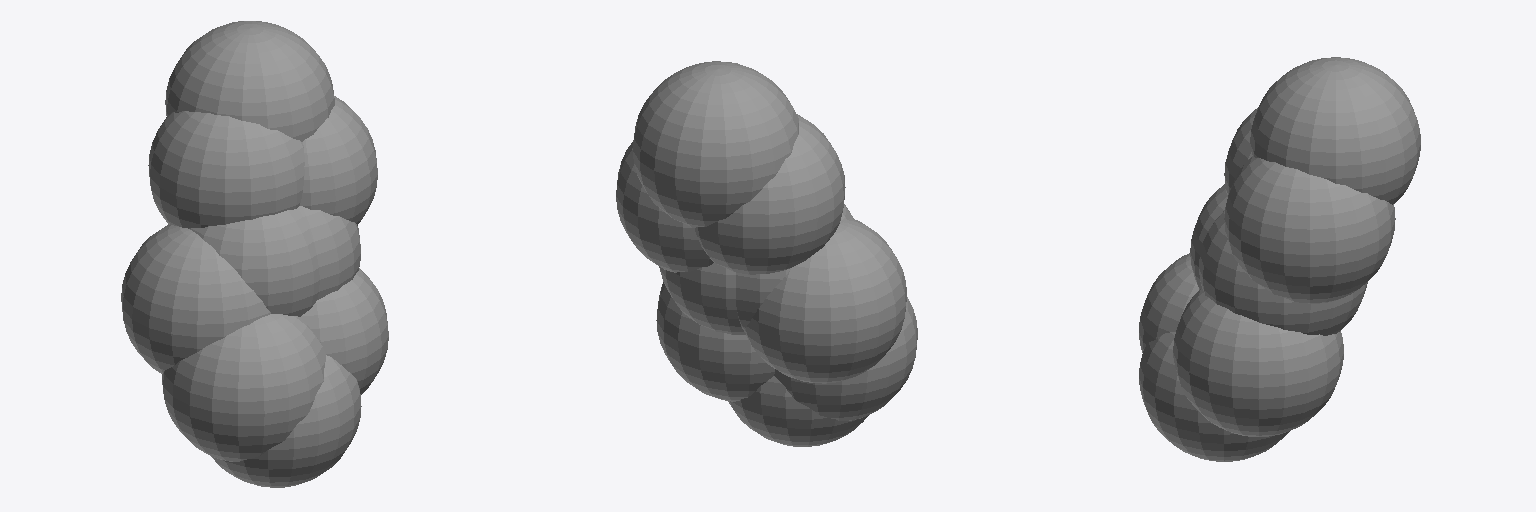
3 views of the same model, side by side, from view 1: azimuth 30°, elevation 25°; view 2: azimuth 150°, elevation 25°; view 3: azimuth 270°, elevation 25° (orthographic).
Visible parts, largest first — view 1: pSphere11; view 2: pSphere11; view 3: pSphere11.
Part boxes in pixels (bbox=[...]): pSphere11: bbox=[121, 21, 388, 487]; pSphere11: bbox=[616, 61, 917, 446]; pSphere11: bbox=[1139, 57, 1420, 461].
Bounding box in the file's own units: 0.85 × 1.3 × 0.825.
1 materials, 1 textured.